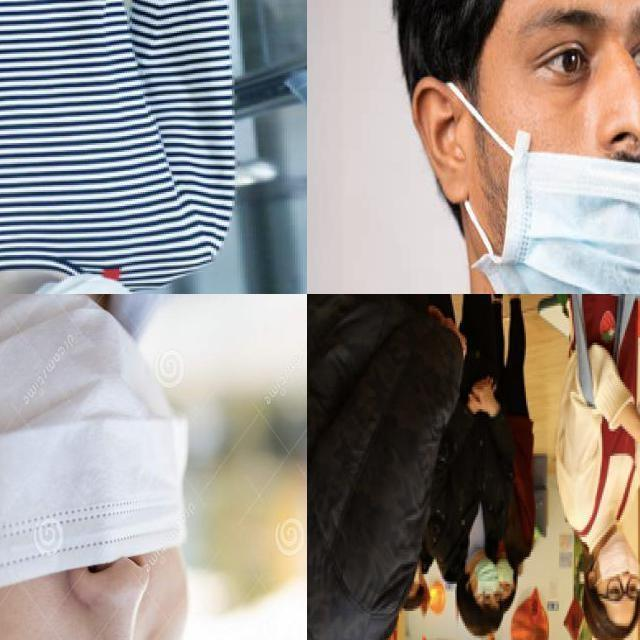hairnet: (0, 250, 230, 639), (396, 0, 639, 298), (571, 509, 638, 607)
mask: (466, 555, 501, 604), (492, 556, 521, 587)
